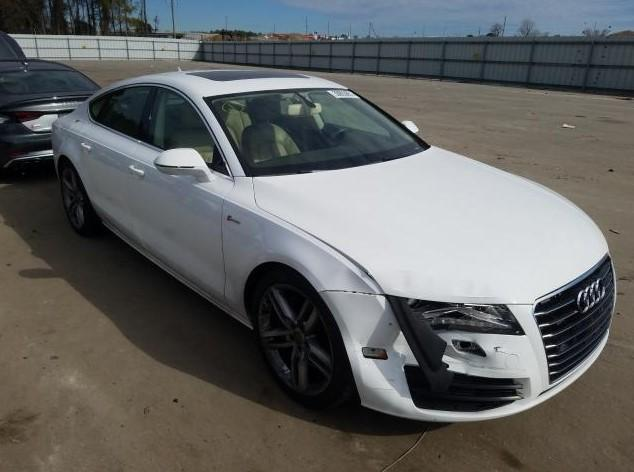Back-door: (82, 81, 157, 242)
Back-wheel: (60, 160, 114, 242)
Back-window: (103, 87, 151, 136), (91, 92, 113, 118)
Fender: (221, 176, 386, 323)
Front-bumper: (317, 291, 609, 424)
Front-door: (132, 82, 236, 307)
Front-wheel: (250, 264, 360, 415)
Front-window: (144, 87, 230, 175)
Grille: (532, 252, 617, 389)
Headlight: (388, 296, 526, 336)
Hood: (253, 144, 609, 305)
Mirror: (153, 148, 216, 183), (401, 120, 421, 135)
Quarter-panel: (51, 111, 93, 200)
Rocker-panel: (99, 216, 253, 331)
Roof: (135, 69, 350, 99)
Windshield: (204, 89, 430, 178)
